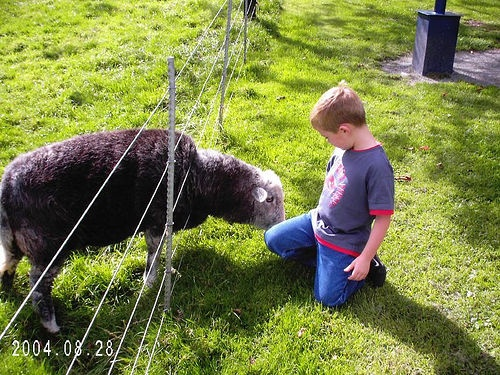head: (311, 84, 366, 151)
person: (267, 81, 394, 307)
